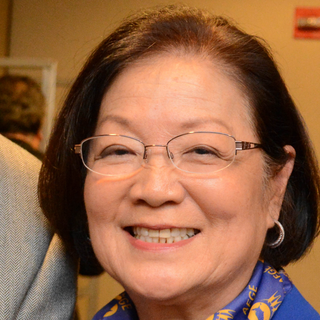eye: (179, 142, 226, 164), (98, 142, 143, 163)
